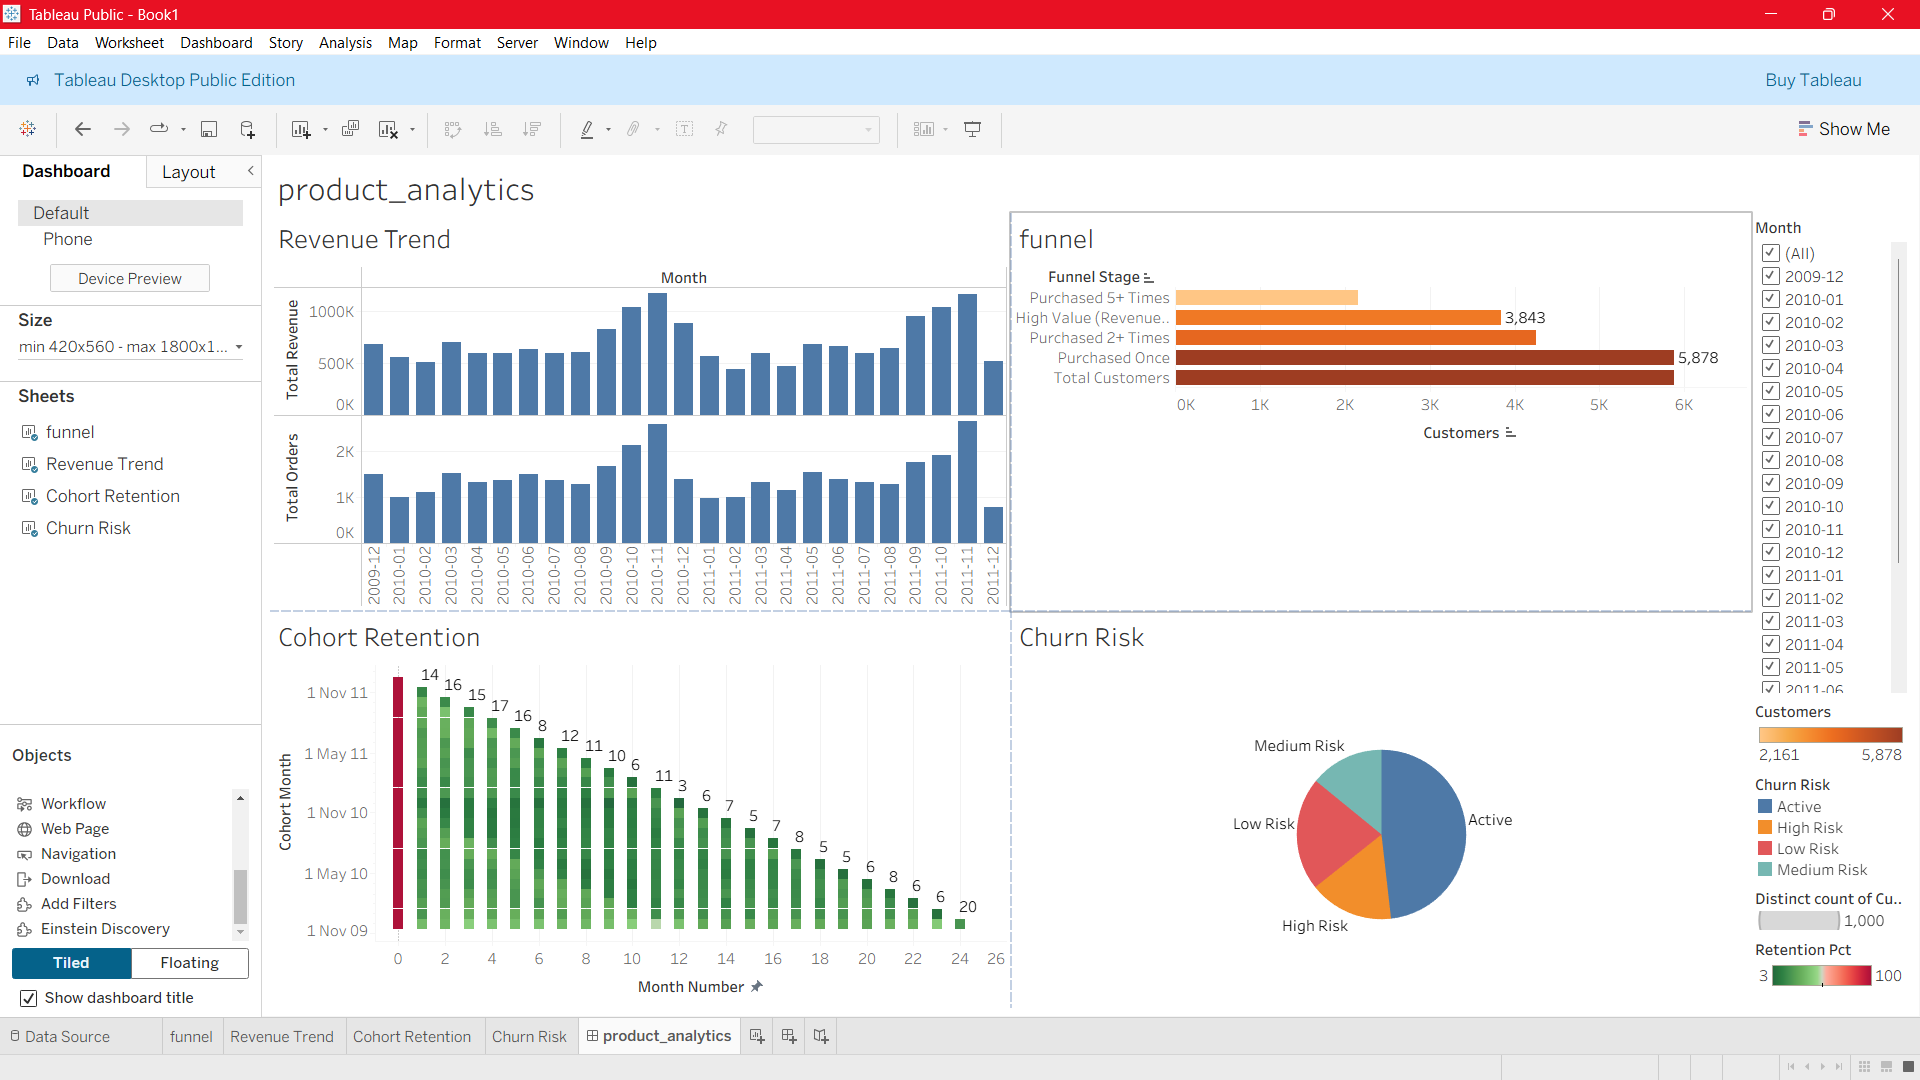

The page's visual inventory and layout, read from the dashboard file:
{"tool":"tableau","page":{"name":"product_analytics","canvas":[1000,1000],"units":"permille","ordinal":0},"visuals":[{"type":"title","box":[4.8,9.3,990.3,58.1]},{"type":"worksheet","title":"Revenue Trend","mark":"Automatic","rows":["total_revenue","total_orders"],"cols":["month"],"box":[4.8,67.4,446.9,461.7]},{"type":"worksheet","title":"funnel","mark":"Automatic","rows":["funnel_stage"],"cols":["customers"],"box":[451.7,67.4,446.9,461.7]},{"type":"filter","title":"Revenue Trend","param":"[federated.02qx2391ck1chp13qkvld0y1q6l3].[none:month:nk]","box":[898.6,67.4,96.6,562.2]},{"type":"worksheet","title":"Cohort Retention","mark":"Square","rows":["cohort_month"],"cols":["month_number"],"box":[4.8,529,446.9,461.7]},{"type":"worksheet","title":"Churn Risk","mark":"Pie","box":[451.7,529,446.9,461.7]},{"type":"legend","title":"funnel","param":"[federated.17eeq8o1lqhgch134hr300wlpmst].[sum:customers:qk]","box":[898.6,629.5,96.6,84.8]},{"type":"legend","title":"Churn Risk","param":"[federated.1sjoi0c1e1lzbf1bnepmj0f7noq6].[none:churn_risk:nk]","box":[898.6,714.3,96.6,132.4]},{"type":"legend","title":"Churn Risk","param":"[federated.1sjoi0c1e1lzbf1bnepmj0f7noq6].[ctd:customer_id:qk]","box":[898.6,846.7,96.6,59.2]},{"type":"legend","title":"Cohort Retention","param":"[federated.18yitu30qkuyps1dtw6t41vg5jii].[sum:retention_pct:qk]","box":[898.6,905.9,96.6,84.8]}]}

Visuals, with their boxes on the dashboard's canvas, which has no fixed pixel size, in thousandths of its width and height (x1, y1, x2, y2). These are canvas units, not pixel positions in the 1920x1080 screenshot, which may show the page scaled, cropped or inside an application window:
title: (5,9,995,67)
"Revenue Trend" worksheet: (5,67,452,529)
"funnel" worksheet: (452,67,899,529)
"Revenue Trend" filter: (899,67,995,630)
"Cohort Retention" worksheet (Square marks): (5,529,452,991)
"Churn Risk" worksheet (Pie marks): (452,529,899,991)
"funnel" legend: (899,630,995,714)
"Churn Risk" legend: (899,714,995,847)
"Churn Risk" legend: (899,847,995,906)
"Cohort Retention" legend: (899,906,995,991)
